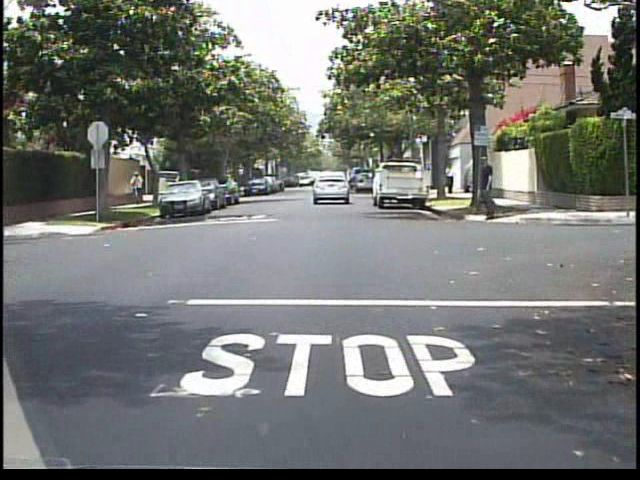person: (465, 152, 505, 221), (128, 170, 150, 206), (171, 170, 188, 203), (443, 160, 457, 199)
